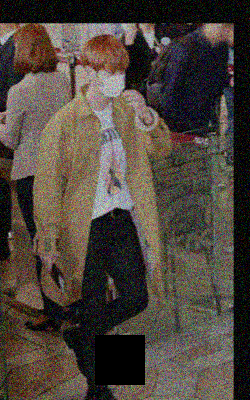with_mask: (97, 70, 126, 98)
